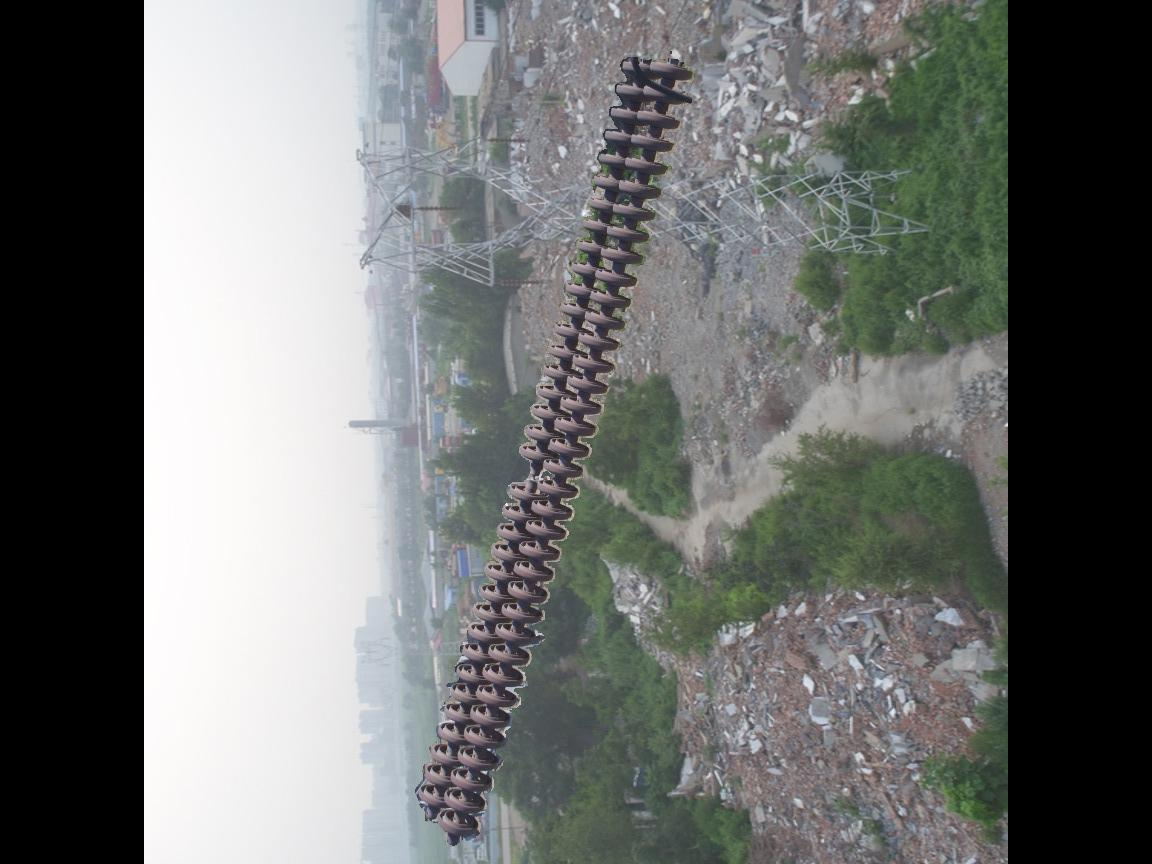insulator: (411, 47, 700, 848)
insulator_stringdrop: (503, 442, 557, 505)
